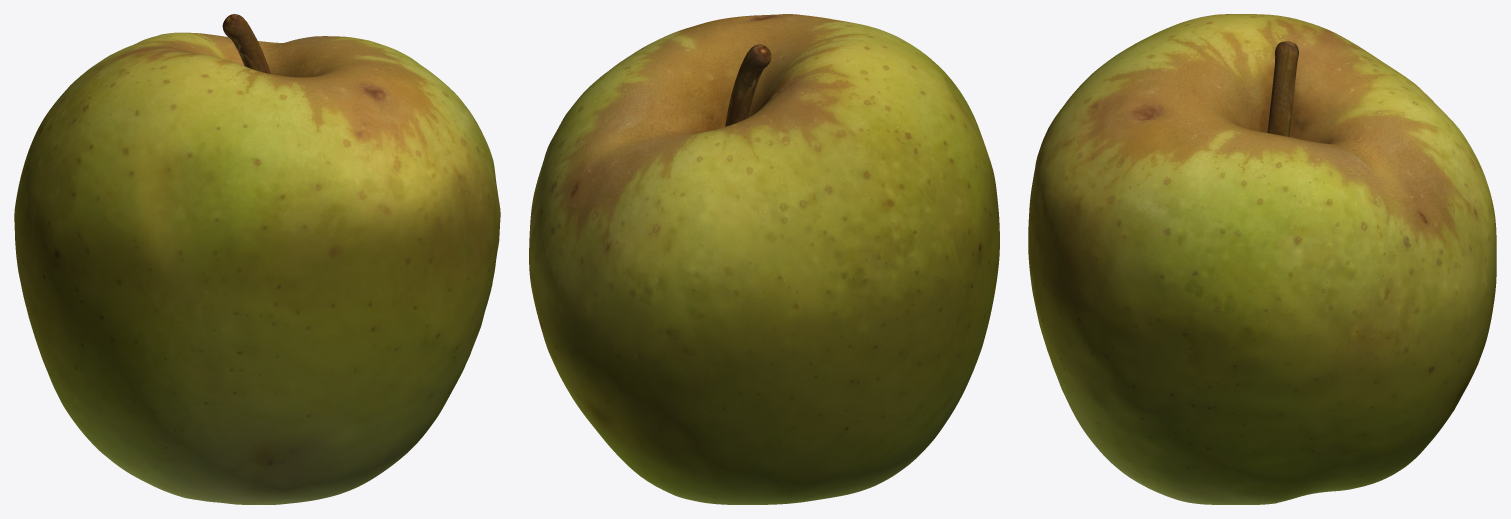
Rendered from apple_3.glb.
3 views of the same model, side by side, from view 1: azimuth 30°, elevation 25°; view 2: azimuth 150°, elevation 25°; view 3: azimuth 270°, elevation 25° (orthographic). The views are drawn at different scales.
Visible parts, largest first — view 1: GreenRed; view 2: GreenRed; view 3: GreenRed.
Boxes of the visible parts, x1,y1,x2,y2 form: GreenRed: [14, 14, 500, 504]; GreenRed: [529, 14, 999, 504]; GreenRed: [1028, 14, 1496, 504].
Size of the model in its own units: 0.0798 by 0.0796 by 0.0794.
Materials: 2 (2 with a texture image).
